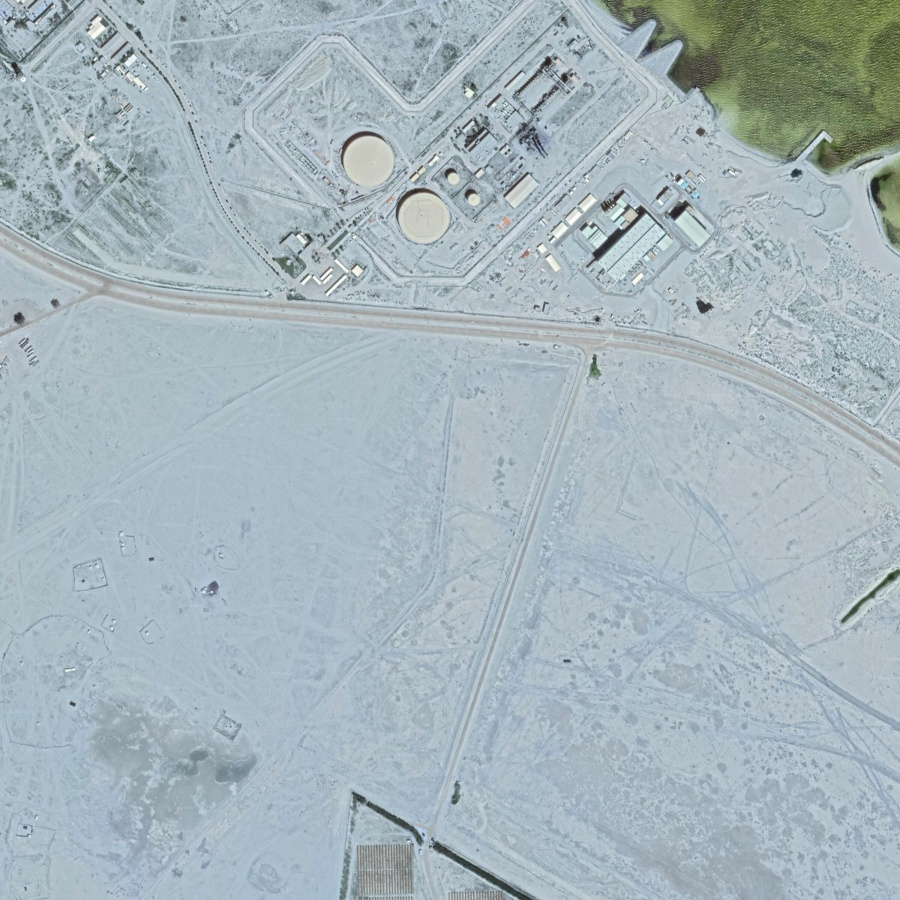PowerPlant: (320, 26, 725, 313)
